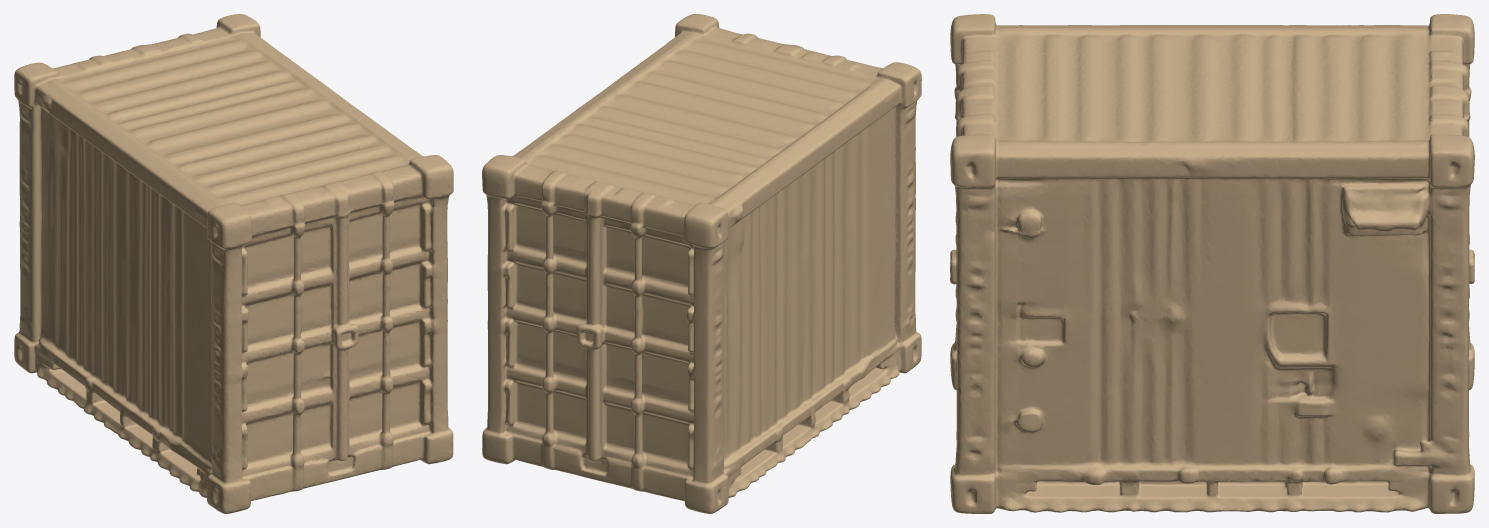
Rendered from crate.glb.
3 renders of one model, left to right at view 1: azimuth 30°, elevation 25°; view 2: azimuth 150°, elevation 25°; view 3: azimuth 270°, elevation 25°, orthographic. The views are drawn at different scales.
Visible parts, largest first — view 1: world; view 2: world; view 3: world.
Part boxes in pixels (<box>): world: <box>14,14,453,513</box>; world: <box>482,14,921,513</box>; world: <box>950,14,1474,513</box>.
Bounding box in the file's own units: 1.3 × 1.53 × 1.99.
